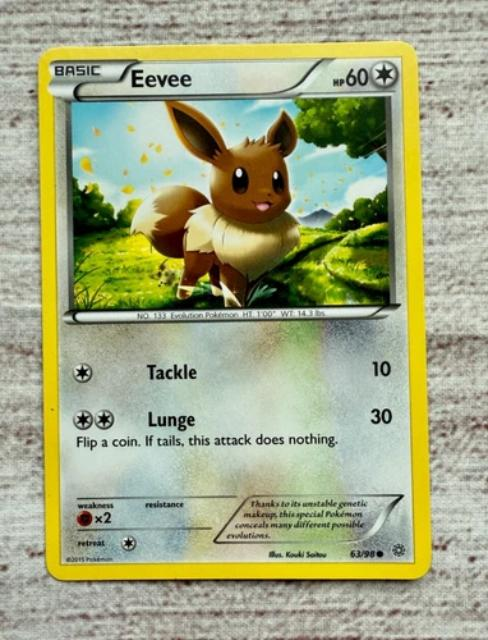Card: (32, 38, 438, 586)
Name: (123, 64, 195, 91)
